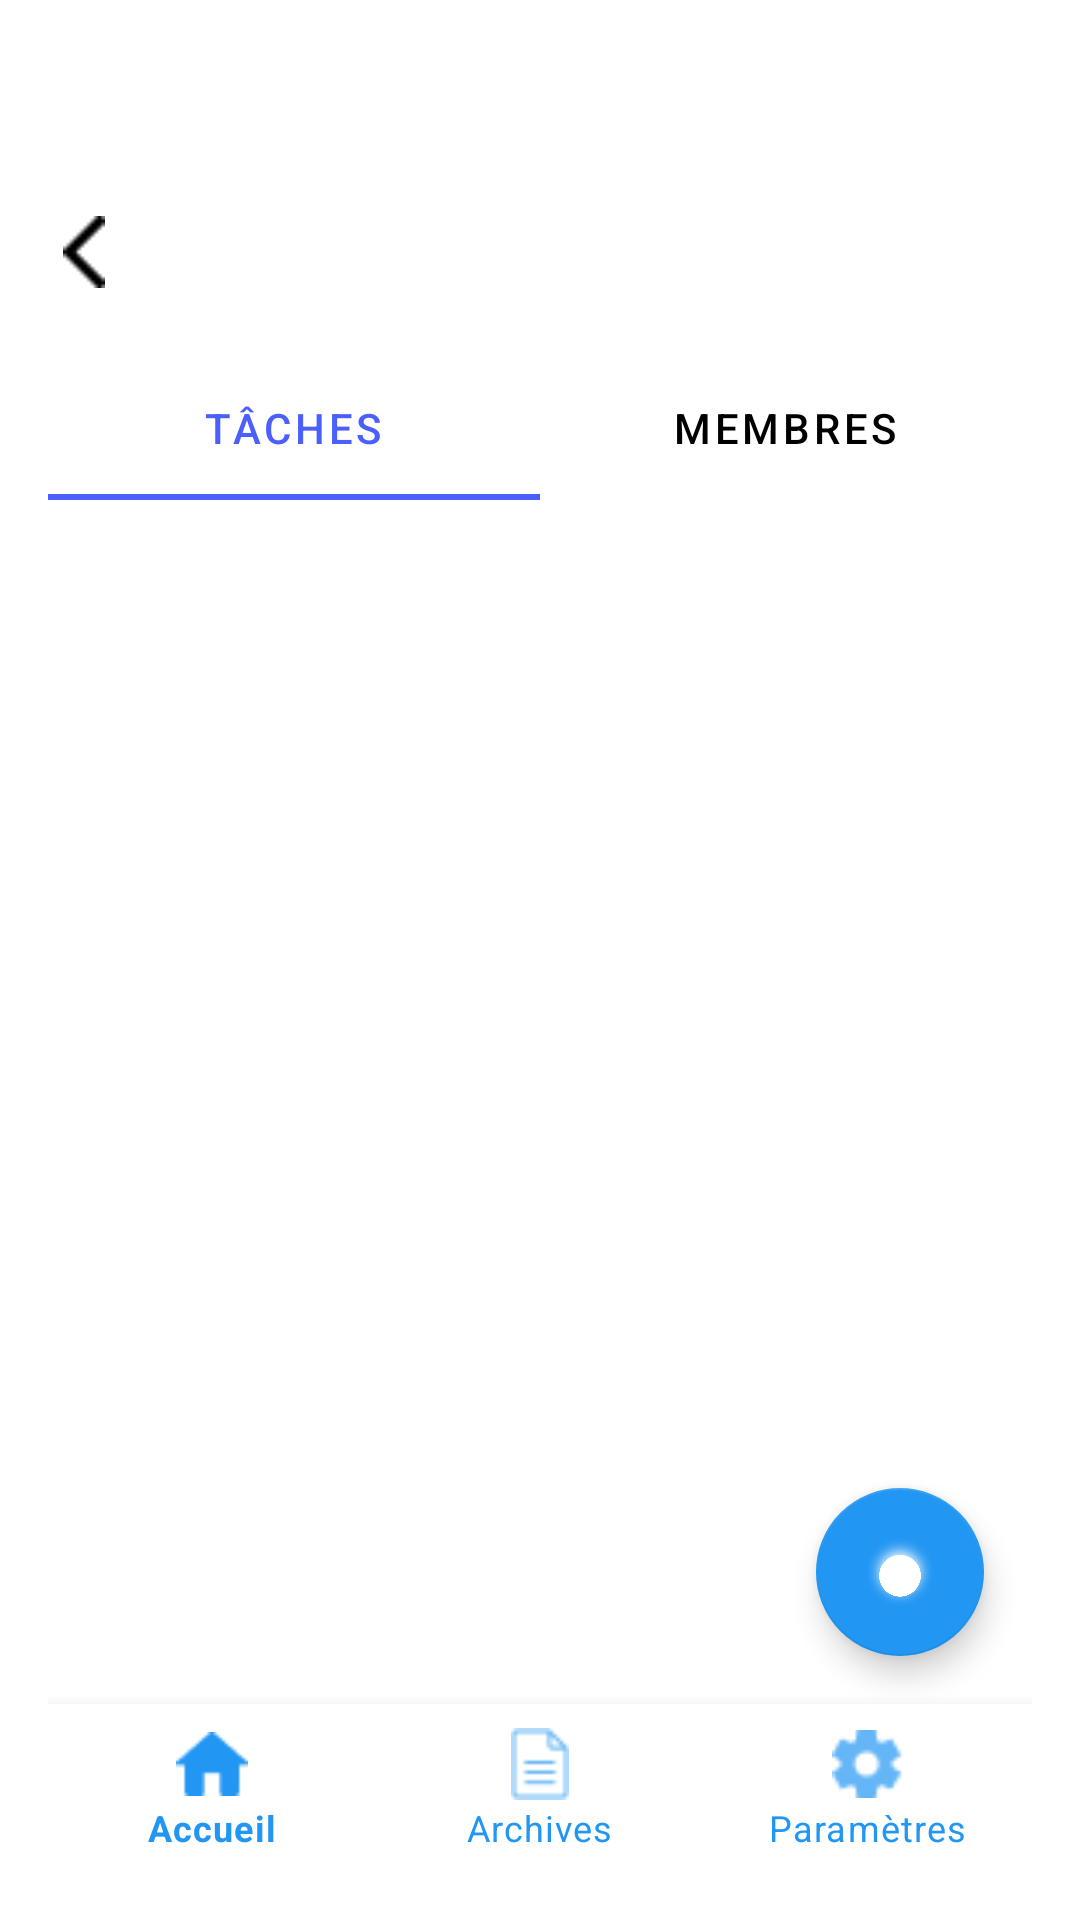

Screen size 1080w x 1920h. Icon name, then its center in pixels as point (x, y):
back: point (84, 252)
